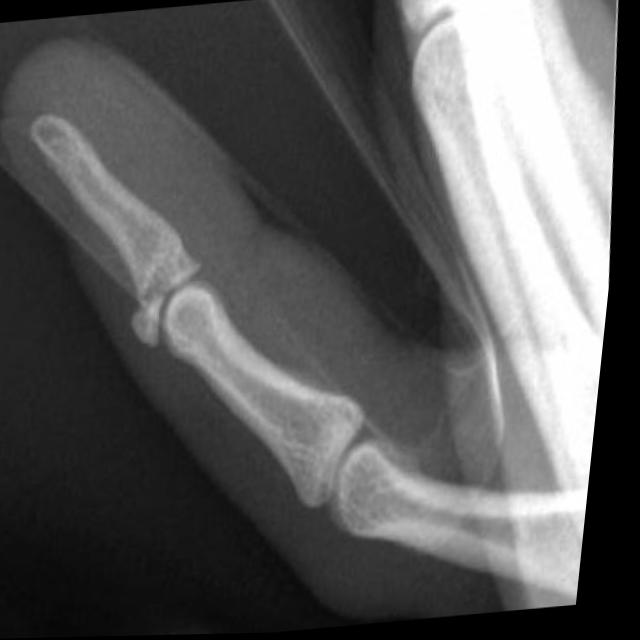fracture: (115, 260, 210, 364)
